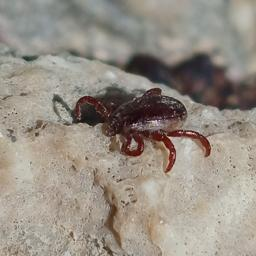Rhipicephalus sanguineus: (75, 87, 212, 174)
